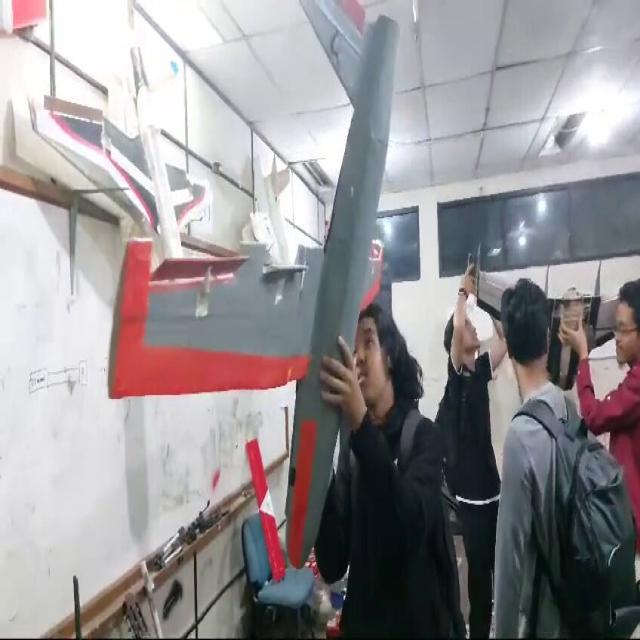plane: (109, 1, 408, 574)
